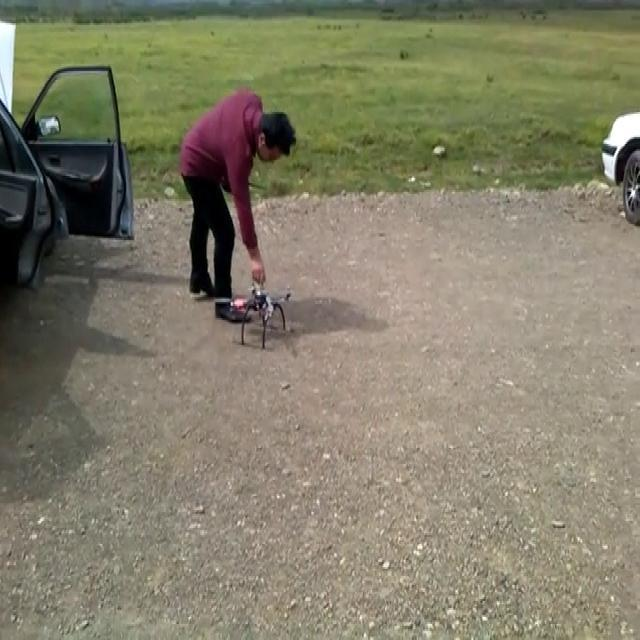drone: (222, 277, 295, 347)
